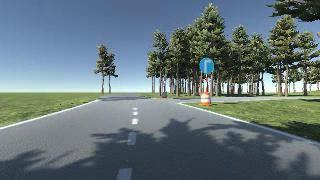turn_right: (199, 59, 214, 74)
